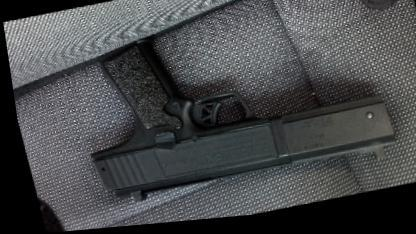pistol: (58, 0, 400, 216)
